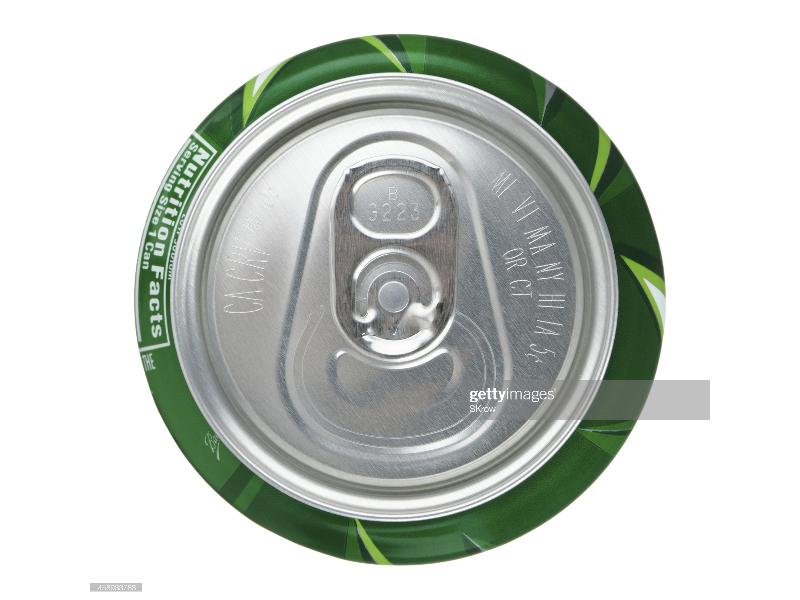can: (114, 31, 673, 558)
